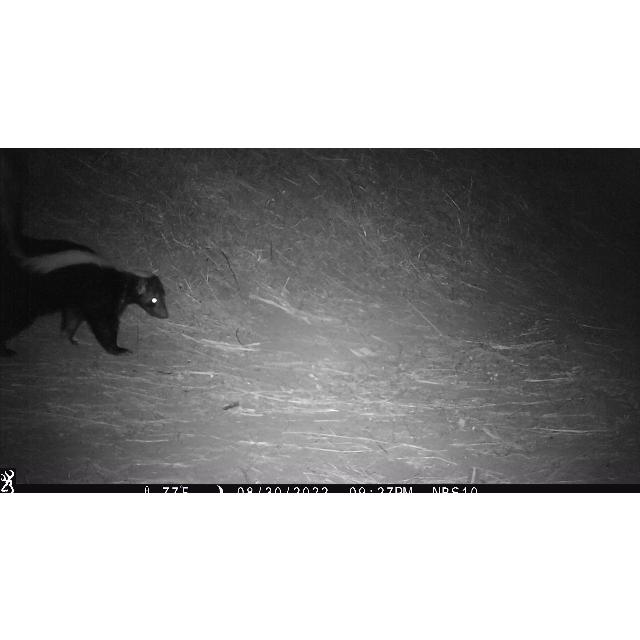animals: (0, 245, 170, 358)
